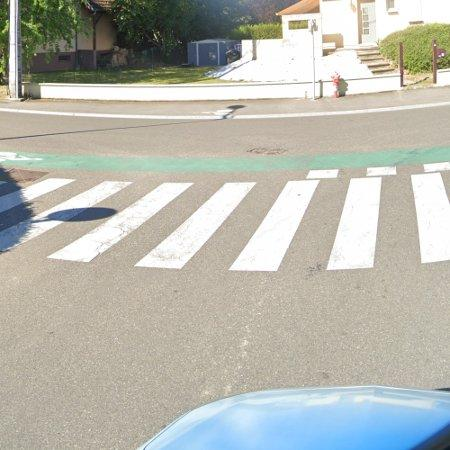crosswalks: (0, 172, 450, 276)
